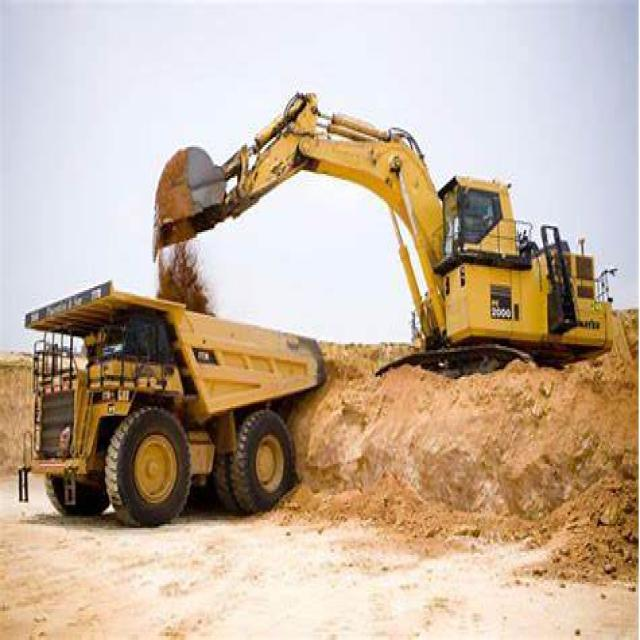dump_truck: (19, 278, 326, 512)
excavator: (132, 66, 612, 400)
